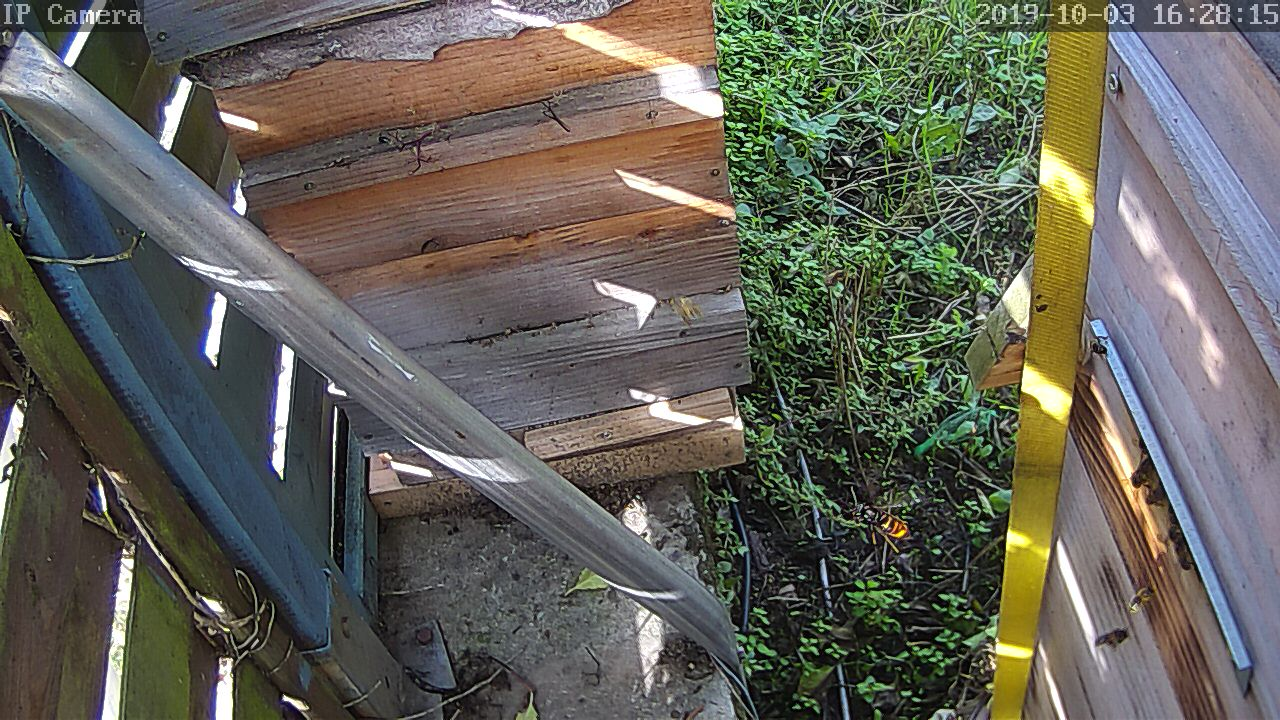bee: (1127, 458, 1168, 506), (1080, 619, 1122, 656)
hornet: (865, 497, 910, 551)
